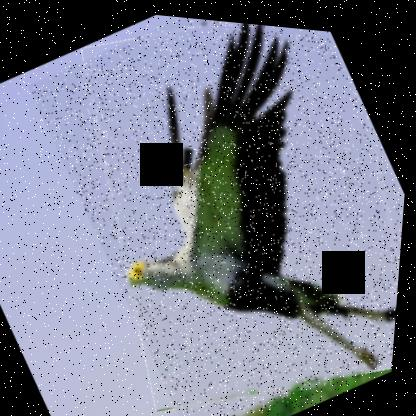Sagittarius serpentarius: (8, 2, 415, 416)
